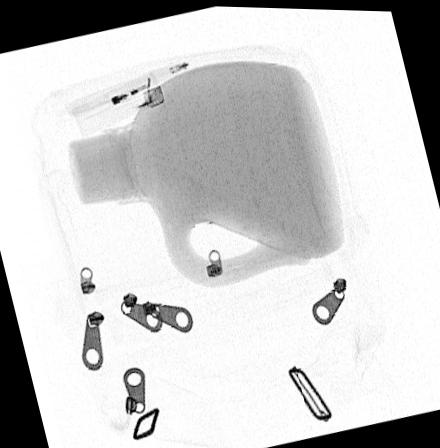Lighter: (69, 68, 166, 135)
